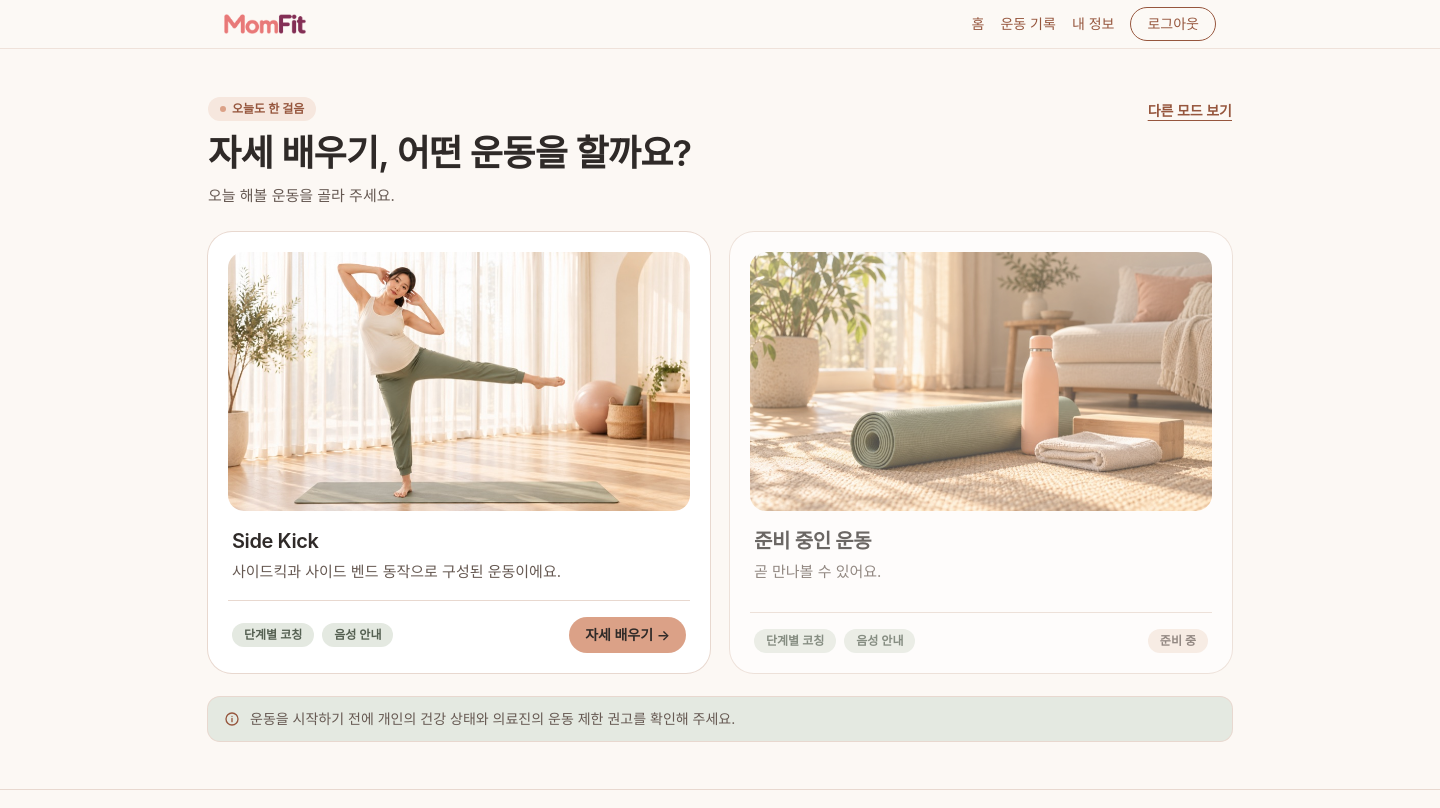
Scenario: WorkoutsPage › 다른 모드 보기로 모드 선택으로 돌아간다
Click the link "다른 모드 보기" at (1190, 111), box [1148,101,1232,121]
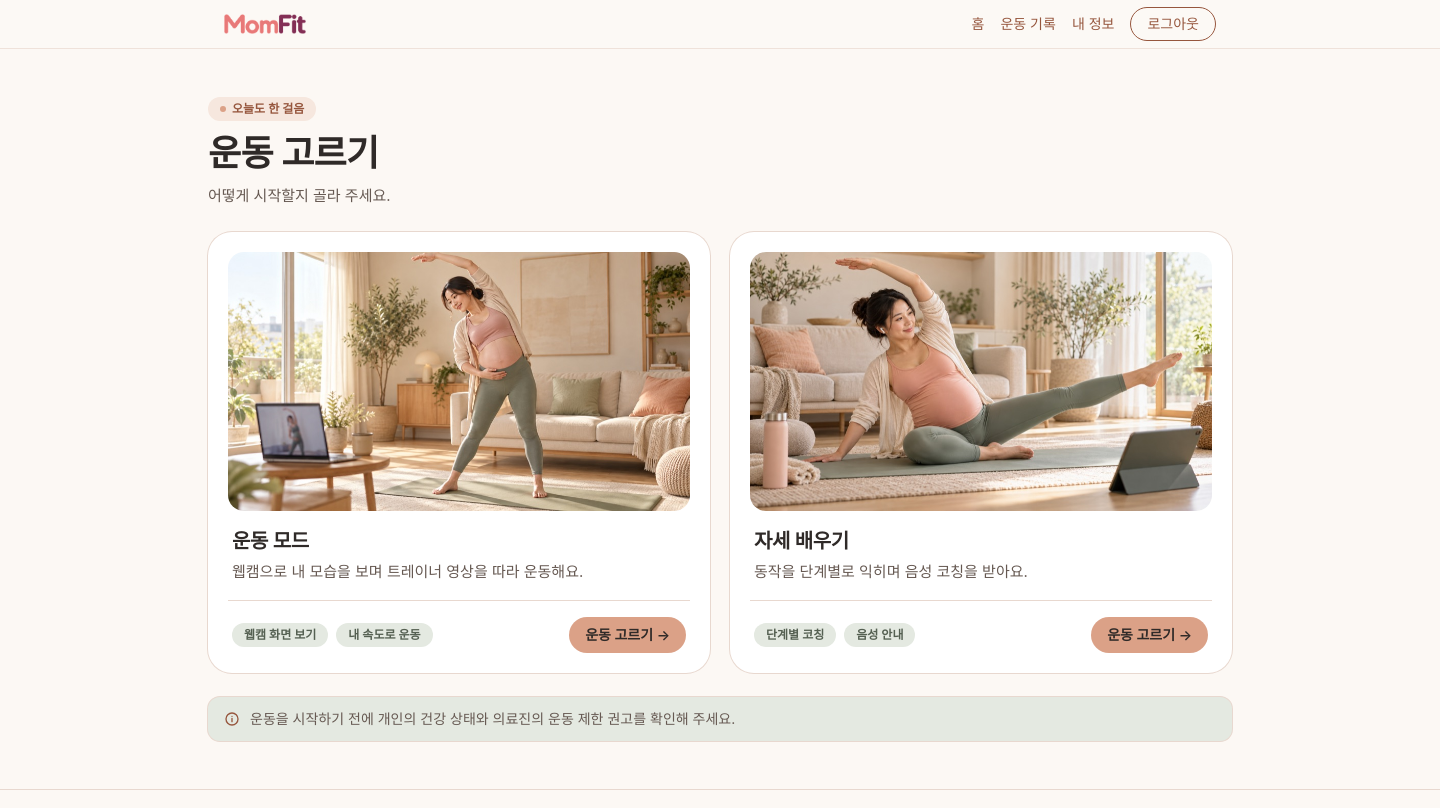
expect the link "운동 모드" is shown: met, box [208,232,710,673]
